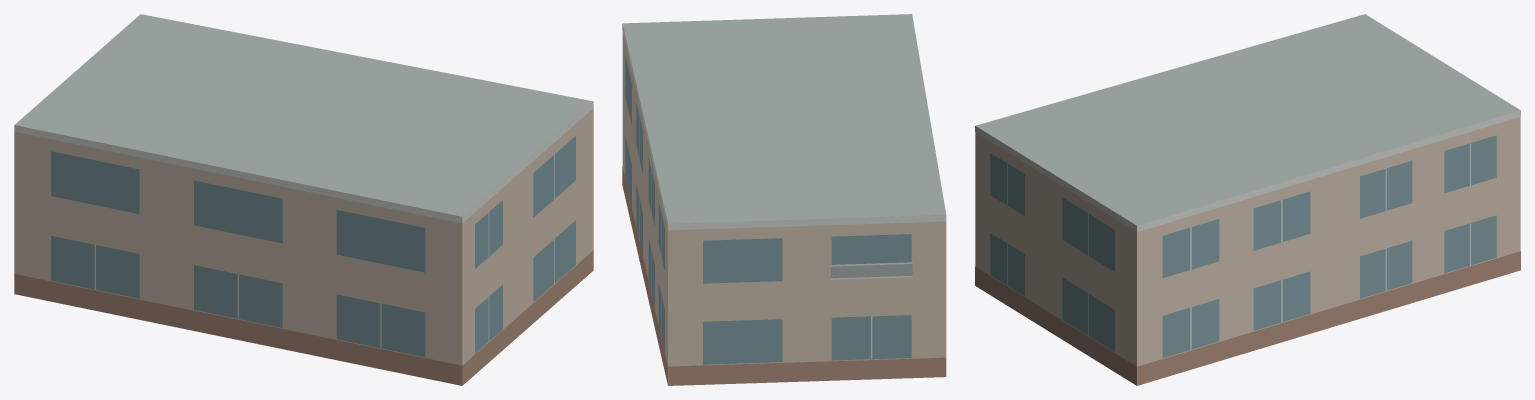
Rendered from survey-upis-32922951.glb.
The picture shows the model from 3 angles, left to right: view 1: azimuth 30°, elevation 25°; view 2: azimuth 150°, elevation 25°; view 3: azimuth 270°, elevation 25°; orthographic projection. The views are drawn at different scales.
Visible parts, largest first — view 1: survey-upis-32922951.tmp; view 2: survey-upis-32922951.tmp; view 3: survey-upis-32922951.tmp.
Boxes of the visible parts, x1,y1,x2,y2 form: survey-upis-32922951.tmp: (14,14,593,385); survey-upis-32922951.tmp: (622,14,946,385); survey-upis-32922951.tmp: (975,14,1520,385).
Bounding box in the file's own units: 17.32 × 6.1 × 18.85.
